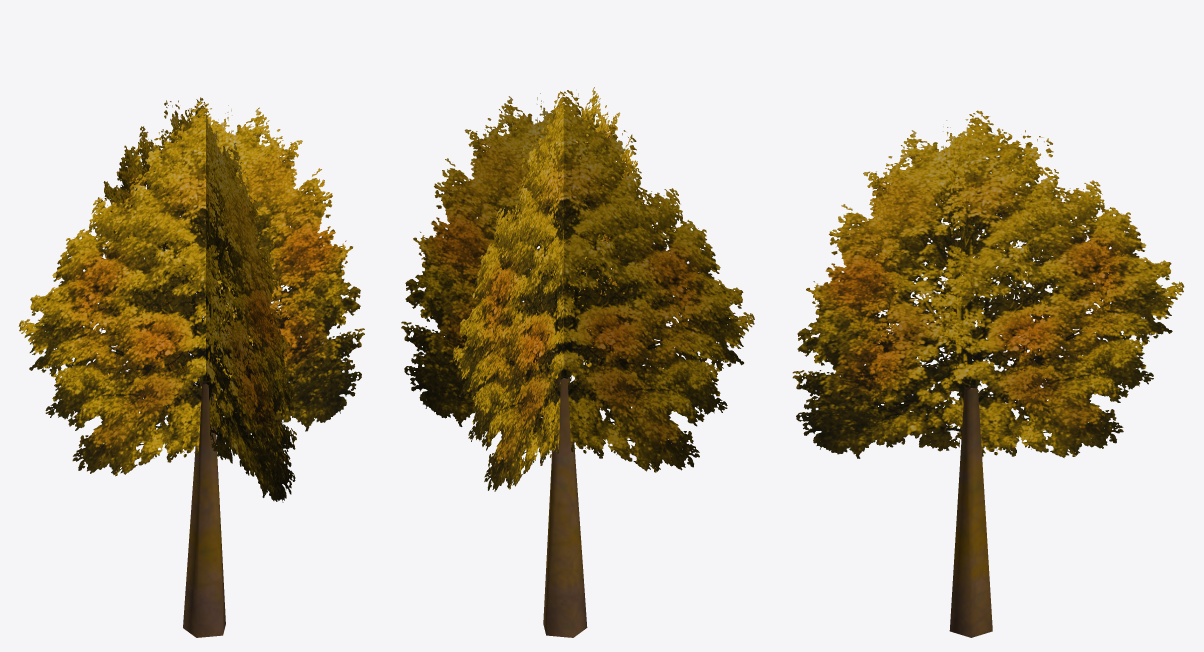
File: deciduous-tree2.fbx
The picture shows the model from 3 angles, left to right: view 1: azimuth 30°, elevation 25°; view 2: azimuth 150°, elevation 25°; view 3: azimuth 270°, elevation 25°; orthographic projection. The views are drawn at different scales.
Visible parts, largest first — view 1: TallTree; view 2: TallTree; view 3: TallTree.
Part boxes in pixels (box(x1,y1,x2,y2)): TallTree: box(18, 97, 364, 637); TallTree: box(401, 87, 754, 637); TallTree: box(792, 110, 1184, 637).
Bounding box in the file's own units: 17.71 × 25.45 × 17.71.
Materials: 1 (1 with a texture image).
